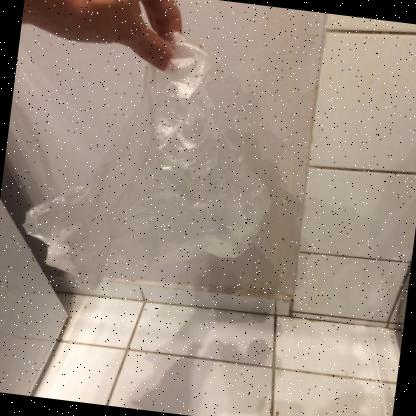Plastic film: (21, 31, 269, 290)
